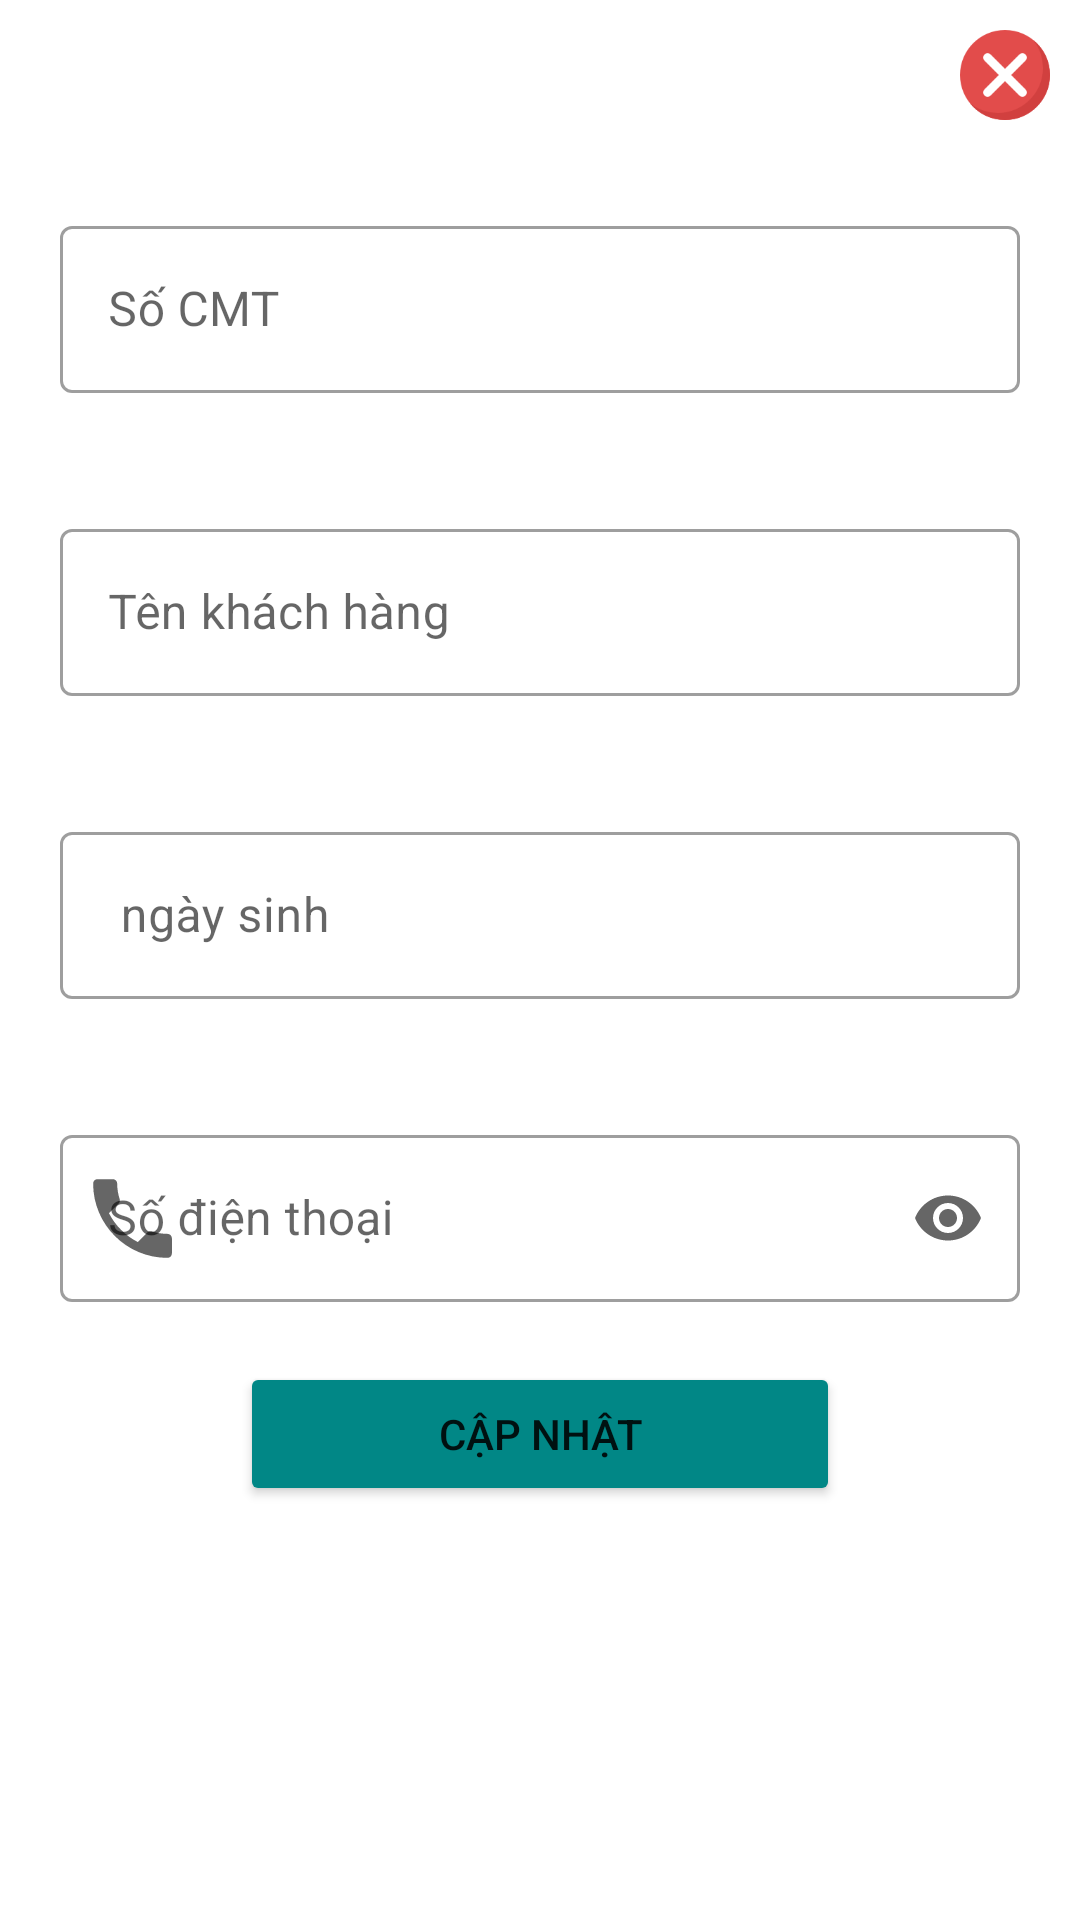

Where to tap for icons on this 1080 x 1920 app screen, as [x,y]:
out dialog: [1005,75]
